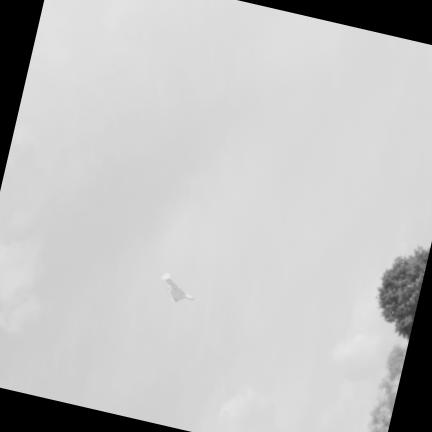Shahed: (162, 272, 193, 300)
